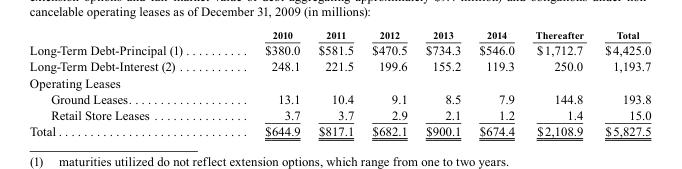table: (28, 29, 650, 137)
table column: (28, 29, 223, 137), (223, 29, 308, 137), (524, 29, 593, 137), (593, 29, 650, 137), (469, 29, 524, 137), (308, 29, 362, 137), (415, 29, 469, 137), (362, 29, 415, 137)
table column header: (28, 29, 650, 41)
table projected row header: (28, 74, 650, 90)
table row: (28, 41, 650, 58), (28, 58, 650, 74), (28, 74, 650, 90), (28, 90, 650, 106), (28, 106, 650, 122), (28, 122, 650, 137), (28, 29, 650, 41)
